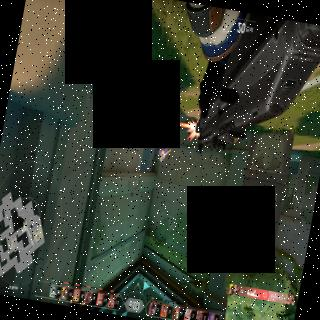ENEMY-BODY: (156, 108, 176, 166)
ENEMY-HEAD: (160, 154, 164, 163)
